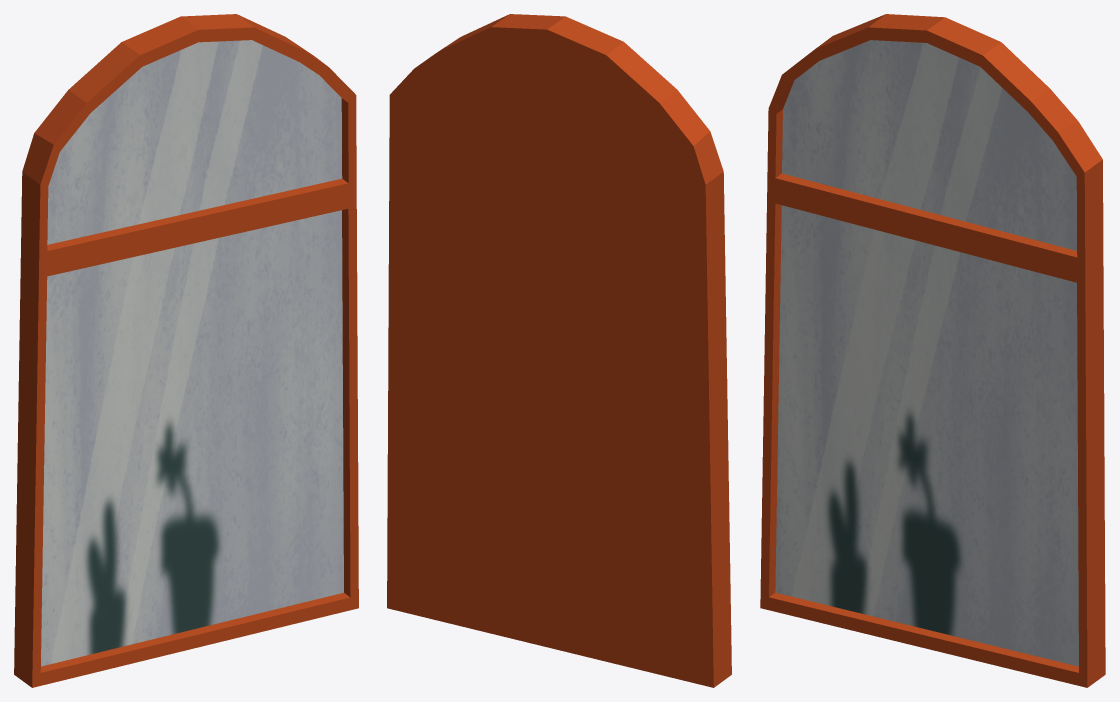
File: Window21.fbx
3 renders of one model, left to right at view 1: azimuth 30°, elevation 25°; view 2: azimuth 150°, elevation 25°; view 3: azimuth 330°, elevation 25°, orthographic.
Visible parts, largest first — view 1: window_huge.002; view 2: window_huge.002; view 3: window_huge.002.
Boxes of the visible parts, <box> form: window_huge.002: <box>14,14,358,687</box>; window_huge.002: <box>387,14,731,687</box>; window_huge.002: <box>760,14,1105,687</box>.
Bounding box in the file's own units: 107 × 193 × 10.28.
